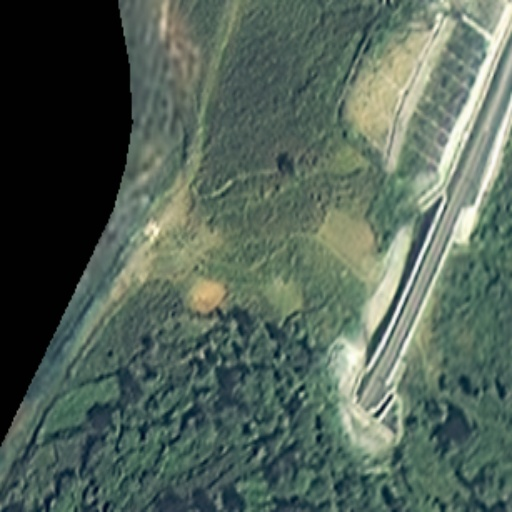landslide: (182, 273, 234, 318)
